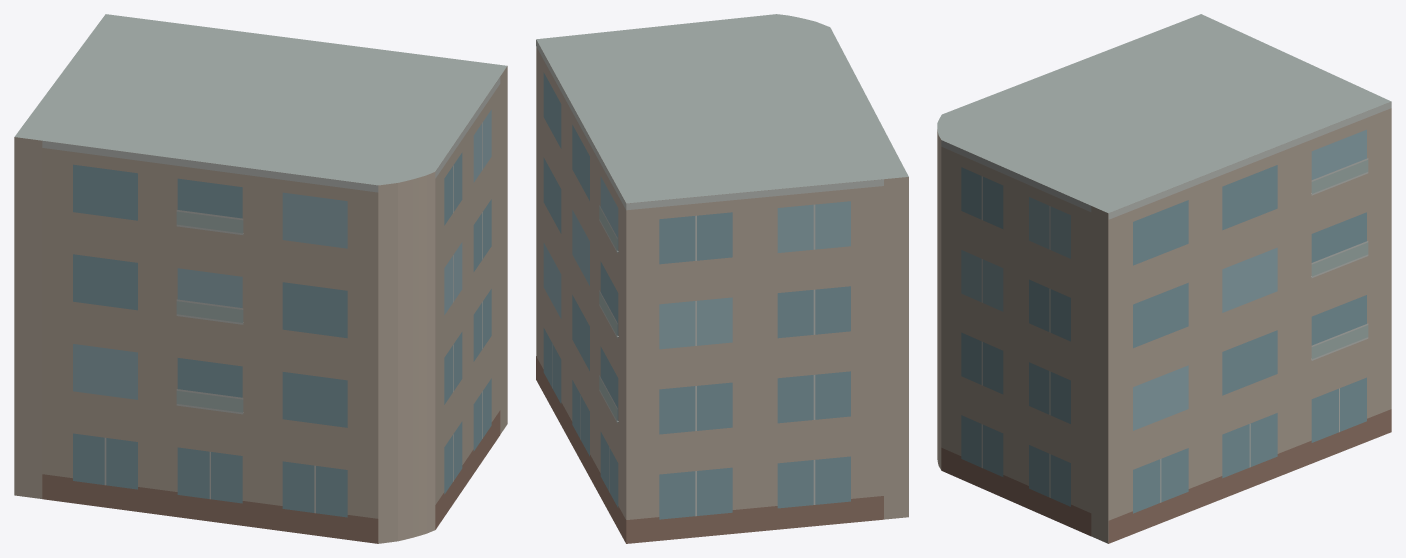
Rendered from survey-upis-32938324.glb.
3 views of the same model, side by side, from view 1: azimuth 30°, elevation 25°; view 2: azimuth 150°, elevation 25°; view 3: azimuth 270°, elevation 25° (orthographic). The views are drawn at different scales.
Parts seen in each view (by area): view 1: survey-upis-32938324.tmp; view 2: survey-upis-32938324.tmp; view 3: survey-upis-32938324.tmp.
Boxes of the visible parts, box(x1,y1,x2,y2) form: survey-upis-32938324.tmp: box(14, 14, 507, 543); survey-upis-32938324.tmp: box(536, 14, 908, 543); survey-upis-32938324.tmp: box(937, 14, 1391, 543).
Bounding box in the file's own units: 15.78 × 12.2 × 15.19.
